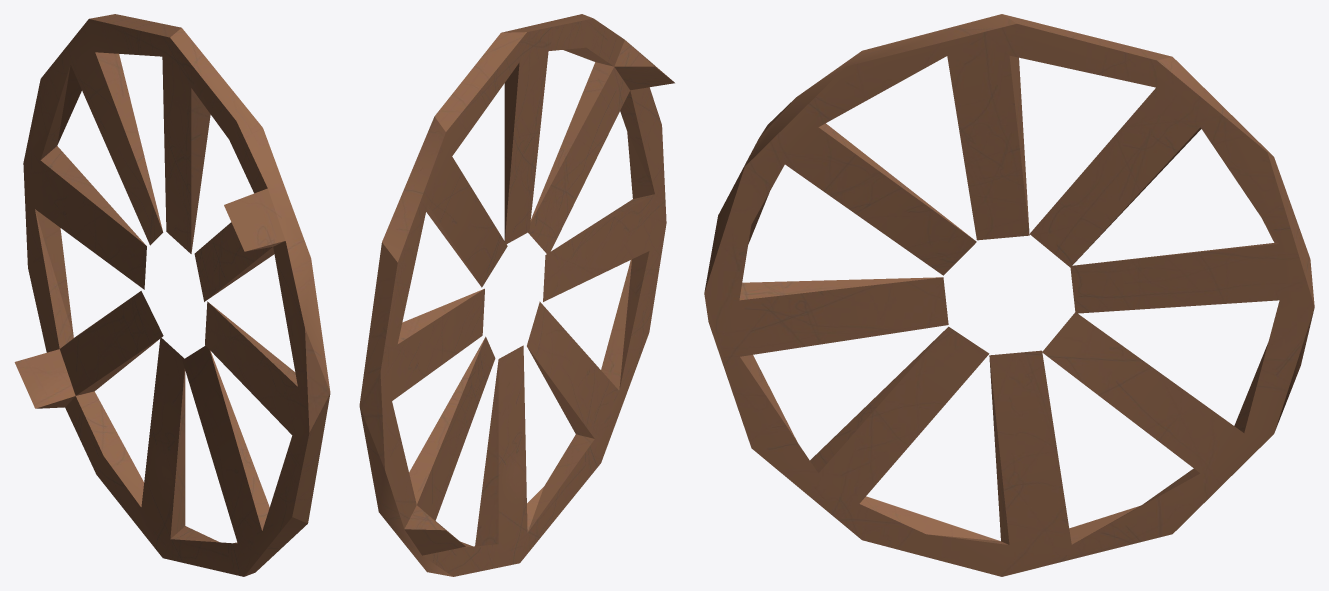
File: wheel-loom-1.glb
3 renders of one model, left to right at view 1: azimuth 30°, elevation 25°; view 2: azimuth 150°, elevation 25°; view 3: azimuth 270°, elevation 25°, orthographic. The views are drawn at different scales.
Parts seen in each view (by area): view 1: Cylinder.089; view 2: Cylinder.089; view 3: Cylinder.089.
Boxes of the visible parts, x1,y1,x2,y2 form: Cylinder.089: [14, 14, 330, 576]; Cylinder.089: [359, 14, 674, 576]; Cylinder.089: [704, 14, 1314, 576].
Size of the model in its own units: 0.0651 by 0.5856 by 0.5856.
Materials: 1 (1 with a texture image).
